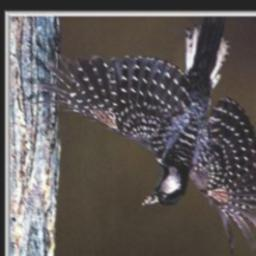Woodpecker: (32, 21, 256, 249)
